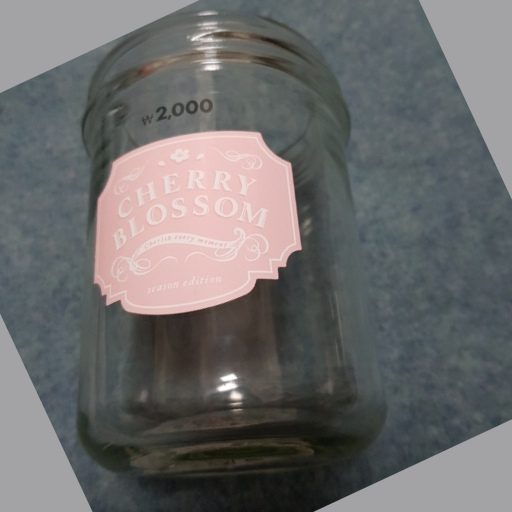Glass_5: (71, 11, 385, 479)
